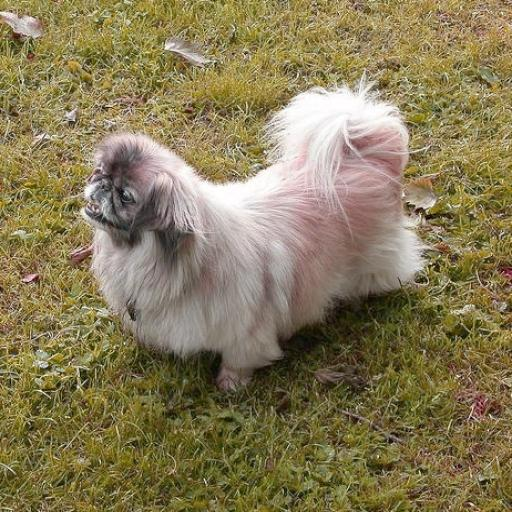dog_face: (67, 152, 186, 250)
